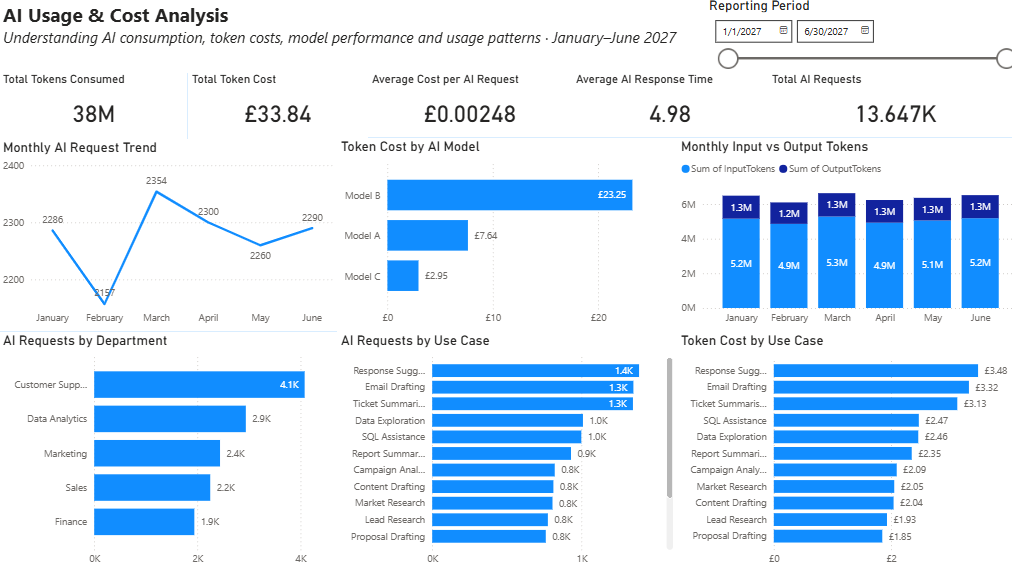

Layout of this report page (visuals, bound fields, positions):
{"tool":"powerbi","page":{"name":"AI Usage & Cost Analysis","canvas":[1280,720],"ordinal":2},"visuals":[{"type":"textbox","box":[0,0,882.5,95],"z":0},{"type":"slicer","title":"Reporting Period","fields":{"Values":["dim_date.CalendarDate"]},"box":[882.5,0,397.5,95],"z":1000},{"type":"card","title":"Total AI Requests","fields":{"Values":["vw_ai_usage.AI Requests"]},"box":[961.2,95,318.8,81.2],"z":2000},{"type":"card","title":"Total Tokens Consumed","fields":{"Values":["vw_ai_usage.Total Tokens"]},"box":[0,95,236.2,82.5],"z":3000},{"type":"card","title":"Total Token Cost","fields":{"Values":["vw_ai_usage.Total Token Cost"]},"box":[236.2,95,225,82.5],"z":4000},{"type":"card","title":"Average Cost per AI Request","fields":{"Values":["vw_ai_usage.Average Cost per Request"]},"box":[461.2,95,255,81.2],"z":5000},{"type":"card","title":"Average AI Response Time","fields":{"Values":["vw_ai_usage.Average AI Latency (Seconds)"]},"box":[716.2,95,245,81.2],"z":6000},{"type":"lineChart","title":"Monthly AI Request Trend","fields":{"Category":["dim_date.CalendarDate.Variation.Date Hierarchy.Month"],"Y":["vw_ai_usage.AI Requests"]},"box":[0,177.5,422.5,241.2],"z":7000},{"type":"columnChart","title":"Monthly Input vs Output Tokens","fields":{"Category":["dim_date.CalendarDate.Variation.Date Hierarchy.Month"],"Y":["Sum(vw_ai_usage.InputTokens)","Sum(vw_ai_usage.OutputTokens)"]},"box":[847.5,176.2,432.5,242.5],"z":8000},{"type":"clusteredBarChart","title":"Token Cost by AI Model","fields":{"Category":["models.ModelName"],"Y":["vw_ai_usage.Total Token Cost"]},"box":[422.5,176.2,425,242.5],"z":9000},{"type":"clusteredBarChart","title":"AI Requests by Department","fields":{"Category":["departments_ai.DepartmentName"],"Y":["vw_ai_usage.AI Requests"]},"box":[0,418.8,422.5,301.2],"z":10000},{"type":"clusteredBarChart","title":"AI Requests by Use Case","fields":{"Category":["use_cases.UseCaseName"],"Y":["vw_ai_usage.AI Requests"]},"box":[422.5,418.8,425,301.2],"z":11000},{"type":"clusteredBarChart","title":"Token Cost by Use Case","fields":{"Category":["use_cases.UseCaseName"],"Y":["vw_ai_usage.Total Token Cost"]},"box":[848,419,433,301],"z":12000}]}

Visuals, with their boxes in screenshot pixels (x1, y1, x2, y2), scaled from the page's 1280x720 canvas onto the 1012x570 screenshot:
textbox: bbox=(0, 0, 698, 75)
"Reporting Period" slicer: bbox=(698, 0, 1011, 75)
"Total AI Requests" card: bbox=(760, 75, 1011, 139)
"Total Tokens Consumed" card: bbox=(0, 75, 187, 141)
"Total Token Cost" card: bbox=(187, 75, 365, 141)
"Average Cost per AI Request" card: bbox=(365, 75, 566, 139)
"Average AI Response Time" card: bbox=(566, 75, 760, 139)
"Monthly AI Request Trend" lineChart: bbox=(0, 141, 334, 331)
"Monthly Input vs Output Tokens" columnChart: bbox=(670, 139, 1011, 331)
"Token Cost by AI Model" clusteredBarChart: bbox=(334, 139, 670, 331)
"AI Requests by Department" clusteredBarChart: bbox=(0, 332, 334, 569)
"AI Requests by Use Case" clusteredBarChart: bbox=(334, 332, 670, 569)
"Token Cost by Use Case" clusteredBarChart: bbox=(670, 332, 1011, 569)
